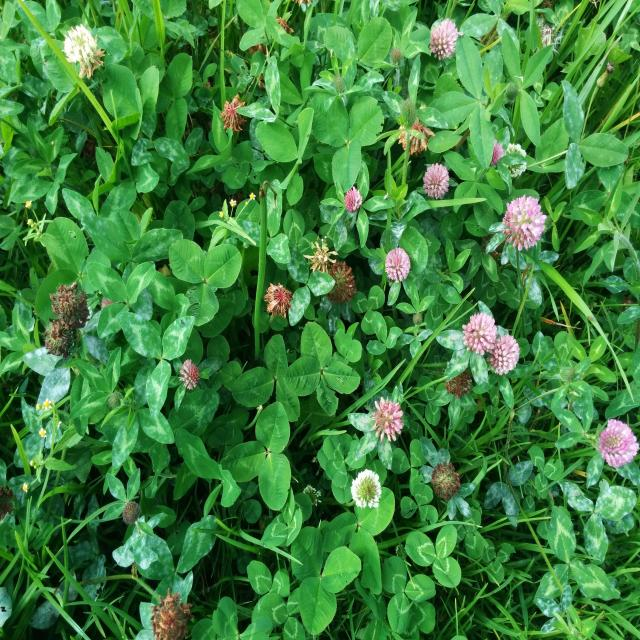Four Leaf Clover: (284, 324, 360, 416)
